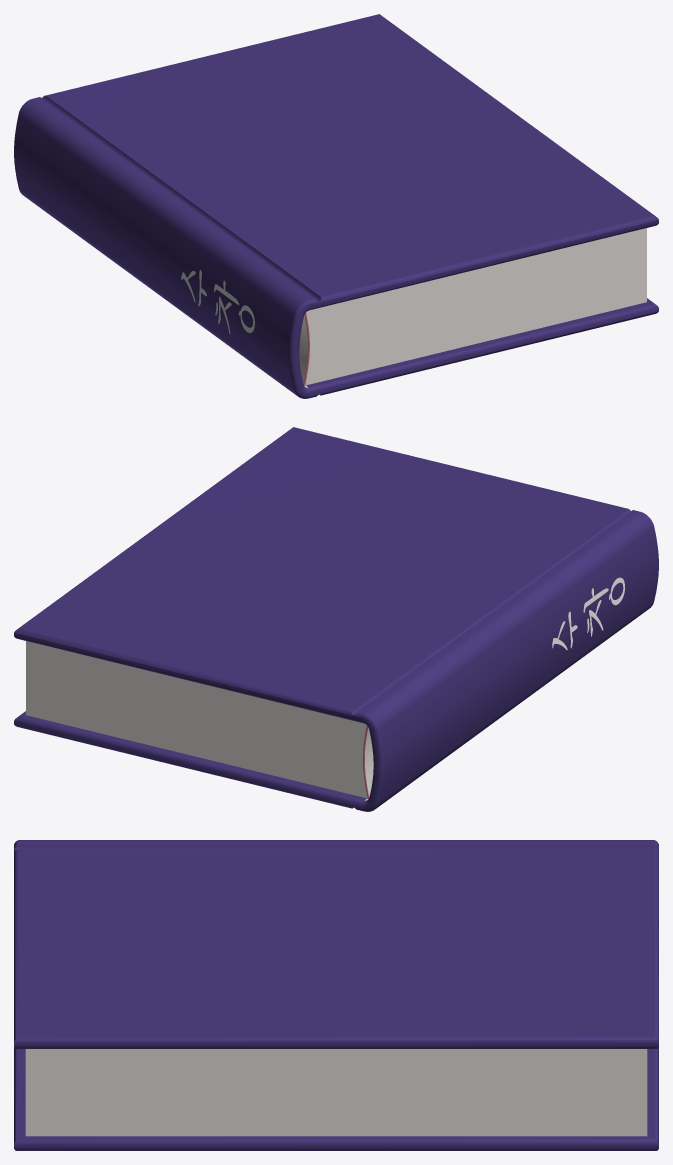
File: book6.glb
3 views of the same model, one above another, from view 1: azimuth 30°, elevation 25°; view 2: azimuth 150°, elevation 25°; view 3: azimuth 270°, elevation 25° (orthographic). The views are drawn at different scales.
Parts seen in each view (by area): view 1: Geode, Text; view 2: Geode, Text; view 3: Geode.
Boxes of the visible parts, box(x1,y1,x2,y2) form: Geode: box(14, 14, 658, 398); Text: box(181, 270, 254, 334); Geode: box(14, 427, 658, 811); Text: box(552, 577, 624, 649); Geode: box(14, 840, 658, 1150).
Size of the model in its own units: 0.5055 by 0.1292 by 0.6604.
Materials: 3 (1 with a texture image).
